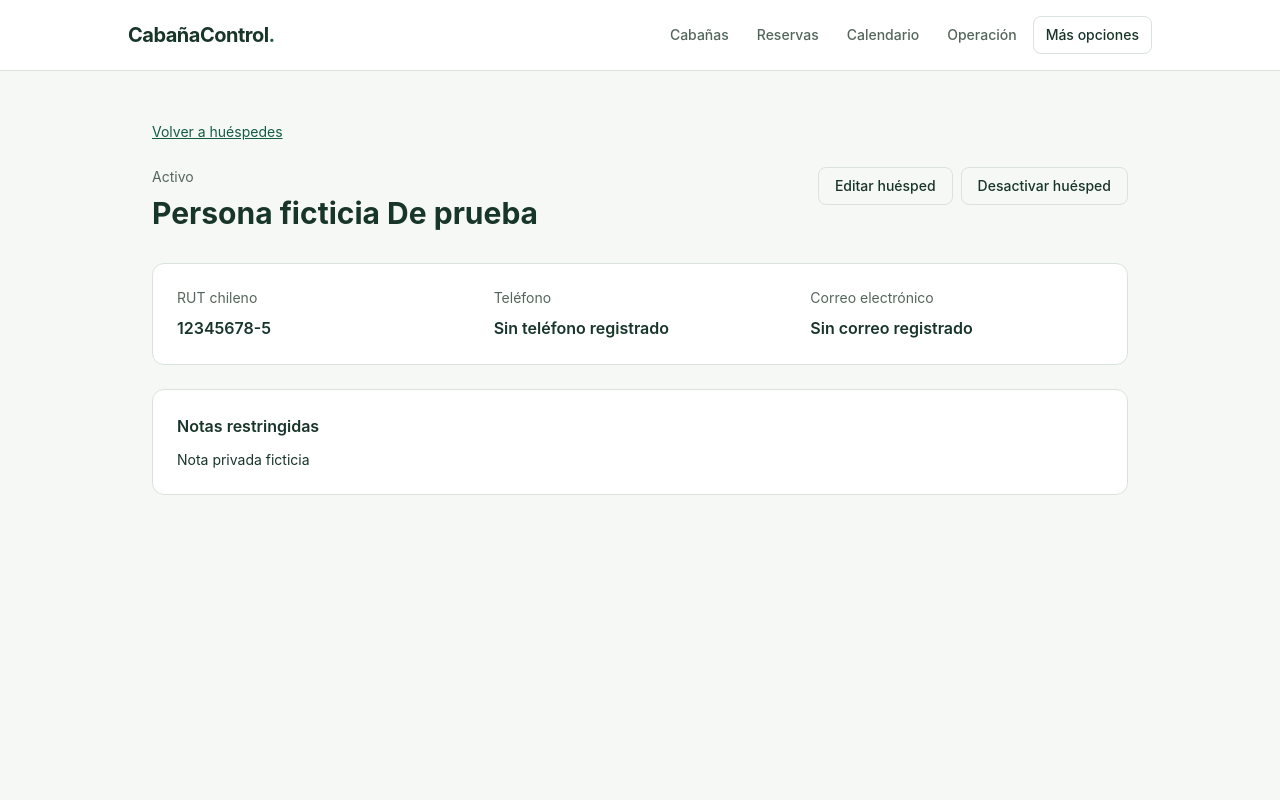
Huéspedes › pide confirmación y conserva la ficha al desactivar
Click the button "Desactivar huésped". click: (1044,186)
box: x1=961 y1=167 x2=1128 y2=205
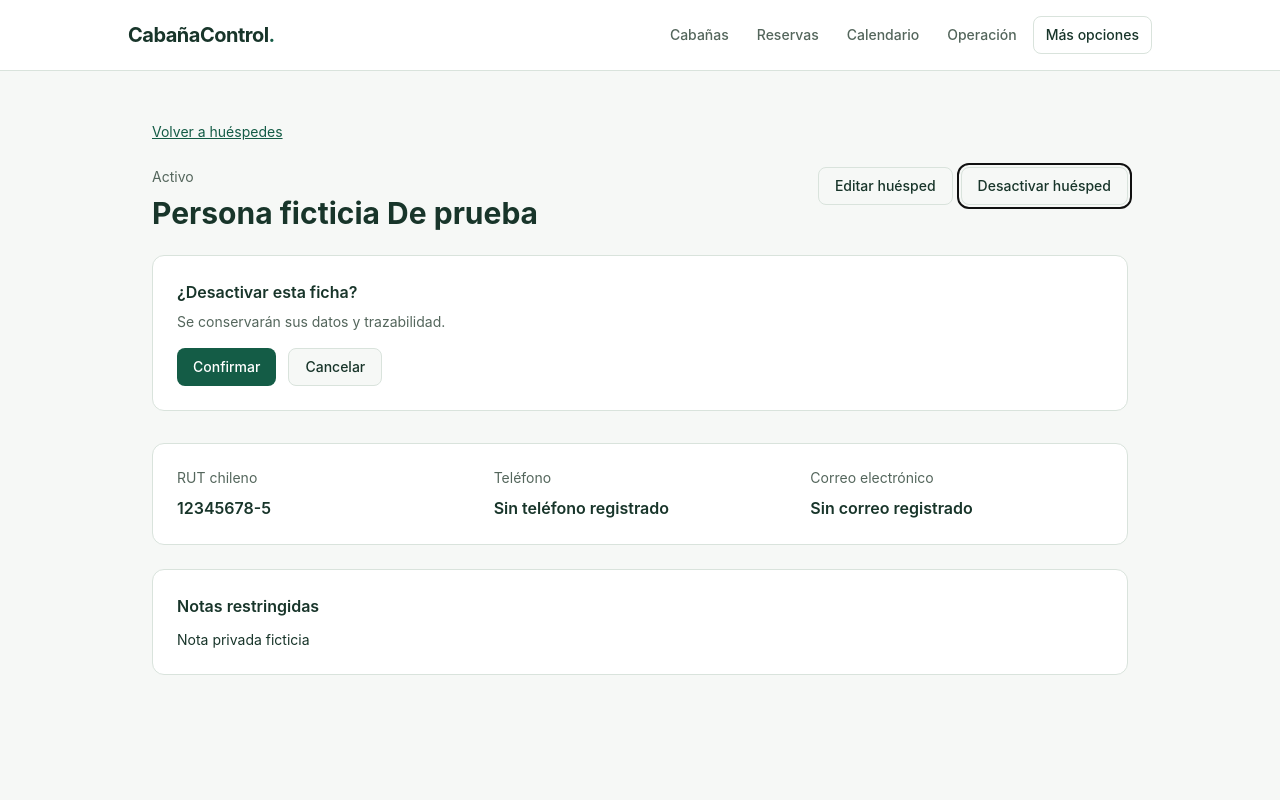
Click the button "Confirmar". click: (227,367)
box: x1=177 y1=348 x2=276 y2=386
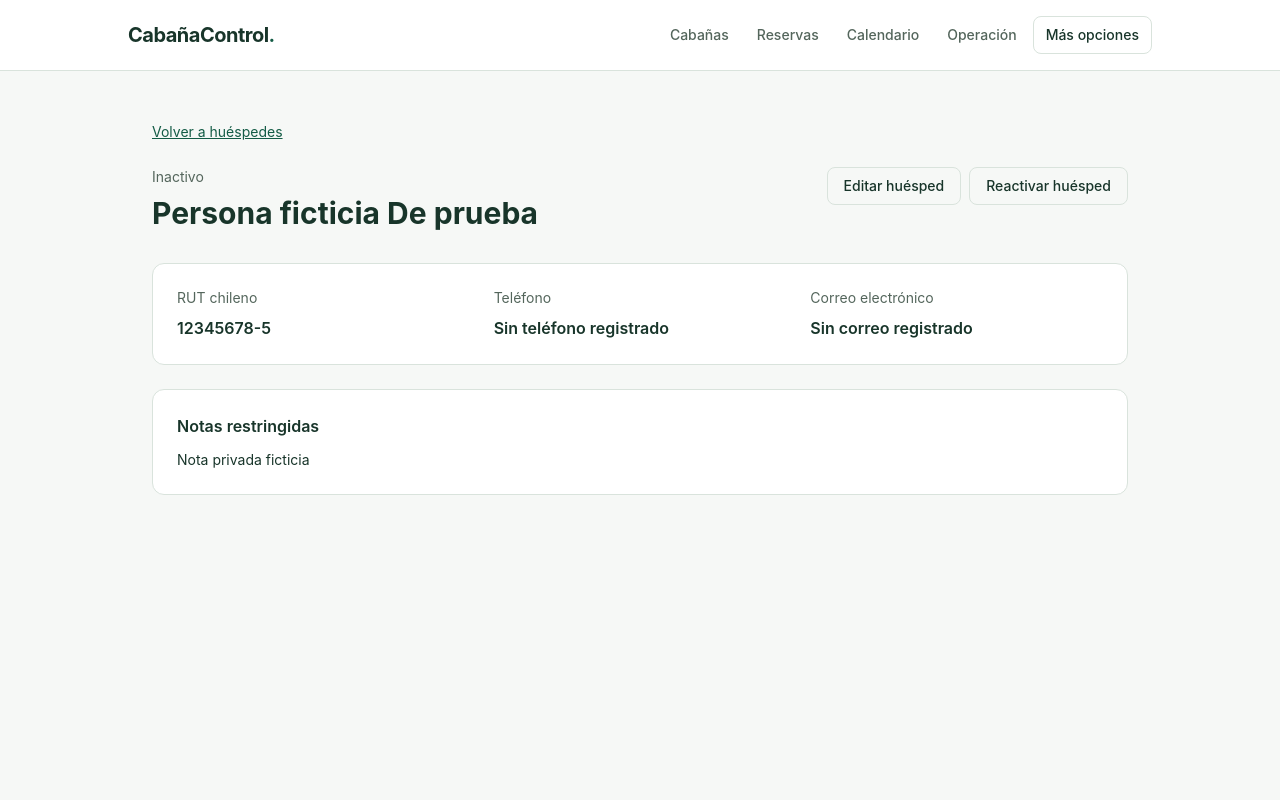
Now the button "Reactivar huésped" is shown, box x1=969 y1=167 x2=1128 y2=205
